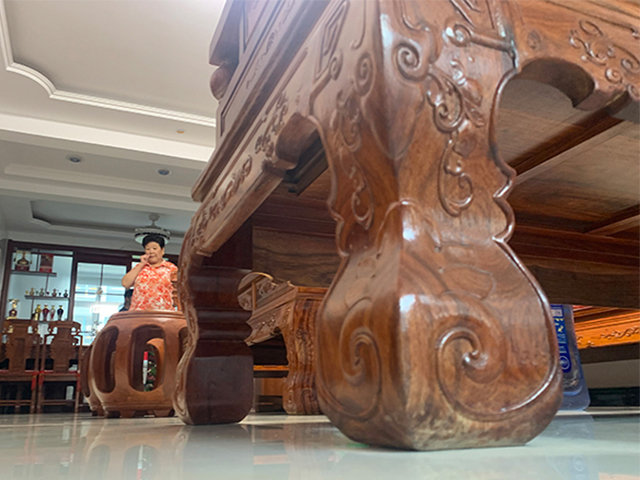stool: (82, 310, 187, 419), (35, 319, 83, 413), (1, 317, 41, 414)
table: (172, 1, 640, 451)
